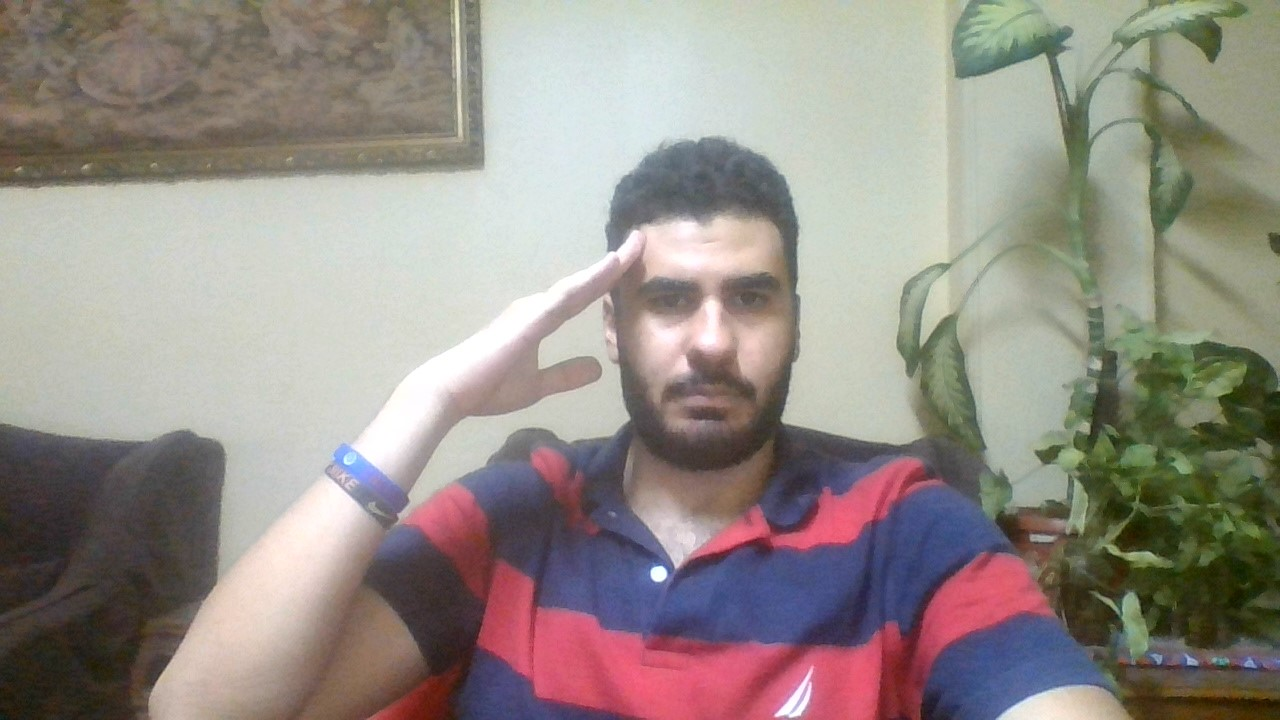hello: (419, 232, 631, 408)
